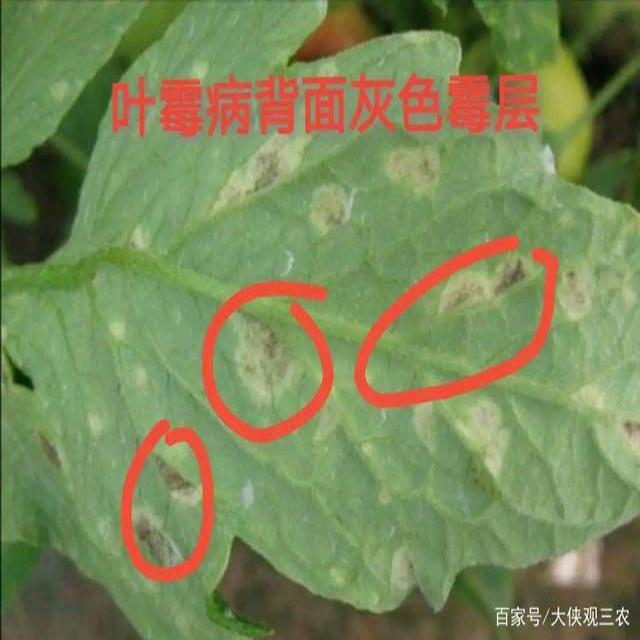Leaf_Mold: (196, 123, 307, 225), (127, 444, 211, 574), (224, 306, 305, 414), (435, 246, 544, 323), (455, 393, 518, 487), (378, 134, 442, 197), (385, 540, 427, 597), (557, 259, 594, 323), (309, 184, 357, 232), (614, 413, 640, 456)
